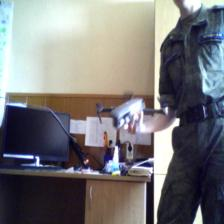drone: (94, 85, 172, 141)
